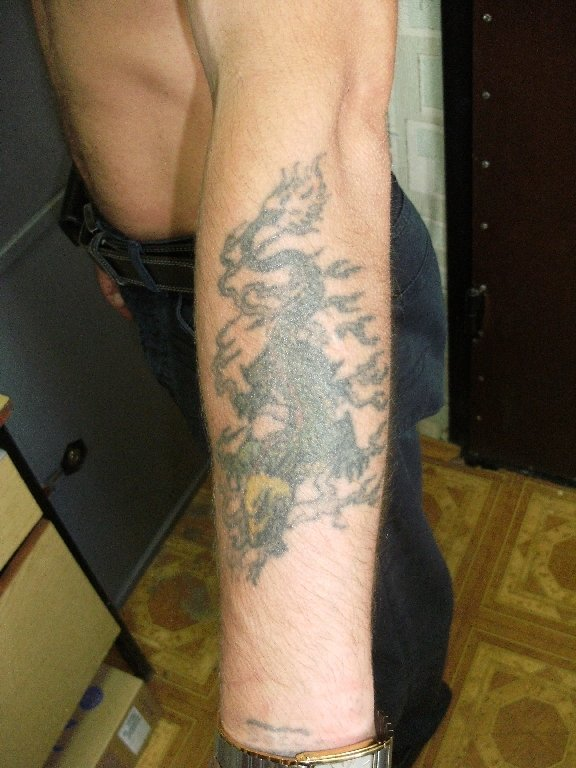tatu6_drakon: (198, 142, 406, 604)
